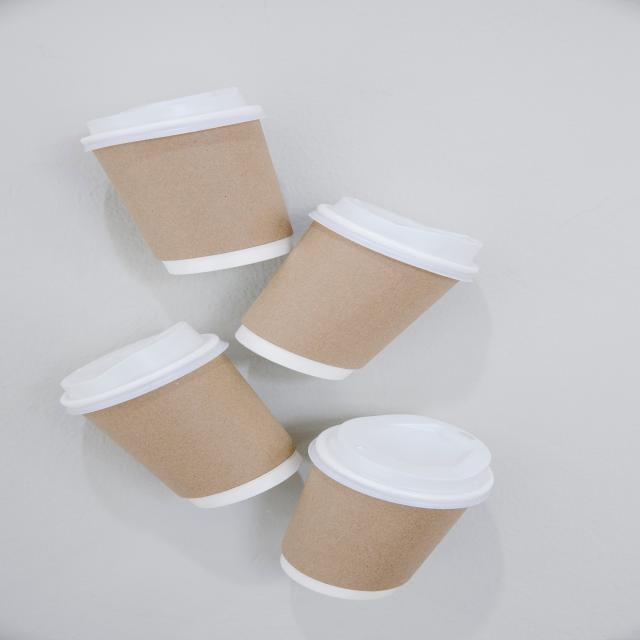cardboard: (132, 154, 270, 237), (292, 266, 410, 342), (125, 412, 272, 464), (311, 510, 429, 571)
